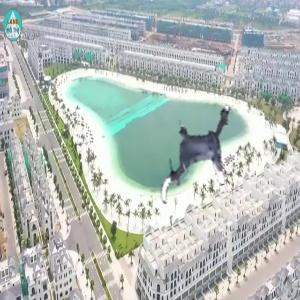drone: (146, 109, 251, 214)
